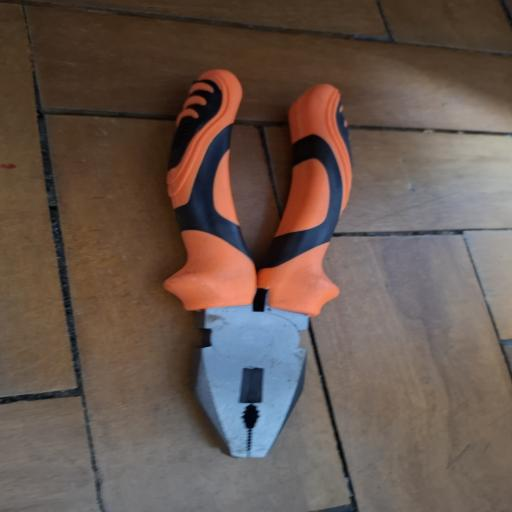alicate: (160, 67, 356, 462)
